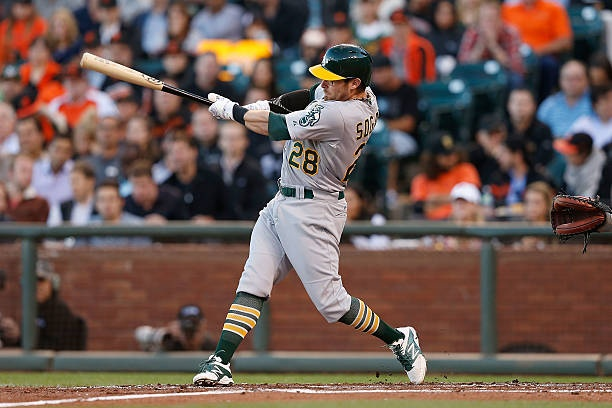bita: (78, 49, 237, 115)
